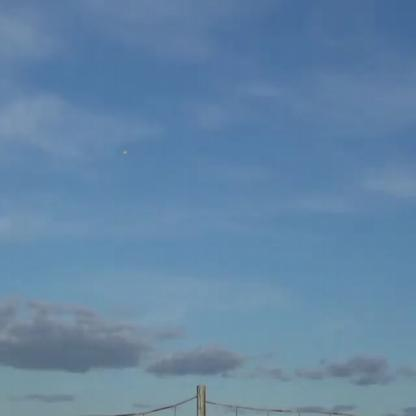plane: (120, 147, 131, 157)
